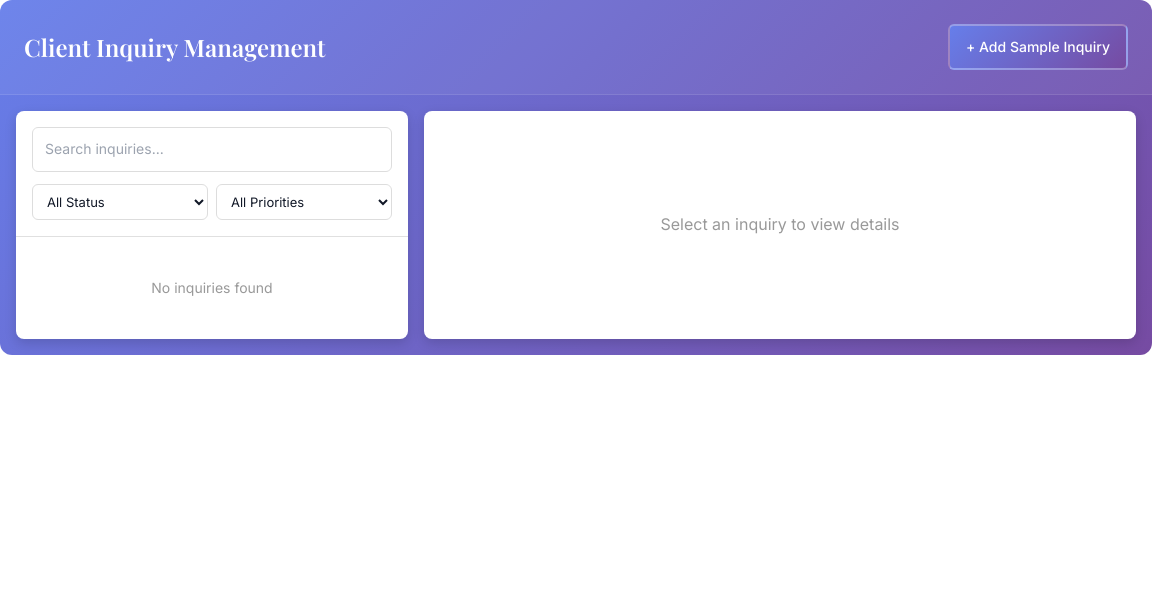
Test: InquiryManagement Component › Status Filtering › should show all when filter is reset to "all"
The image size is (1152, 605).
Click the button with test id "btn-add-inquiry" at (1038,47), box [948,24,1128,70]
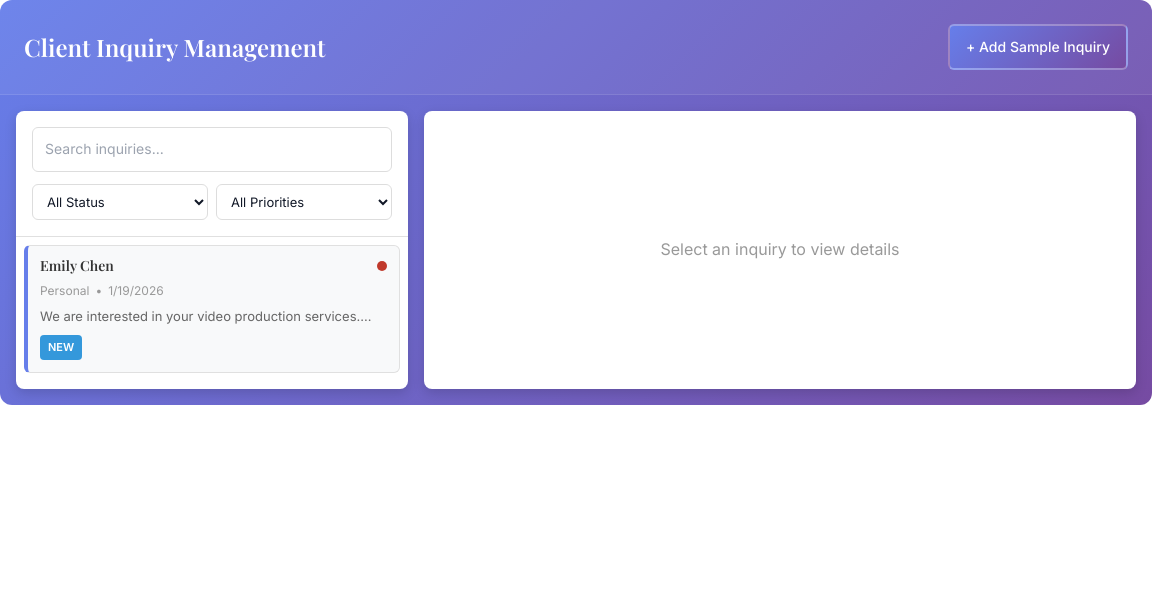
Expected: the text "No inquiries found" is gone
Click the element with test id "^inquiry-item-" at (212,309), box [24,245,400,373]
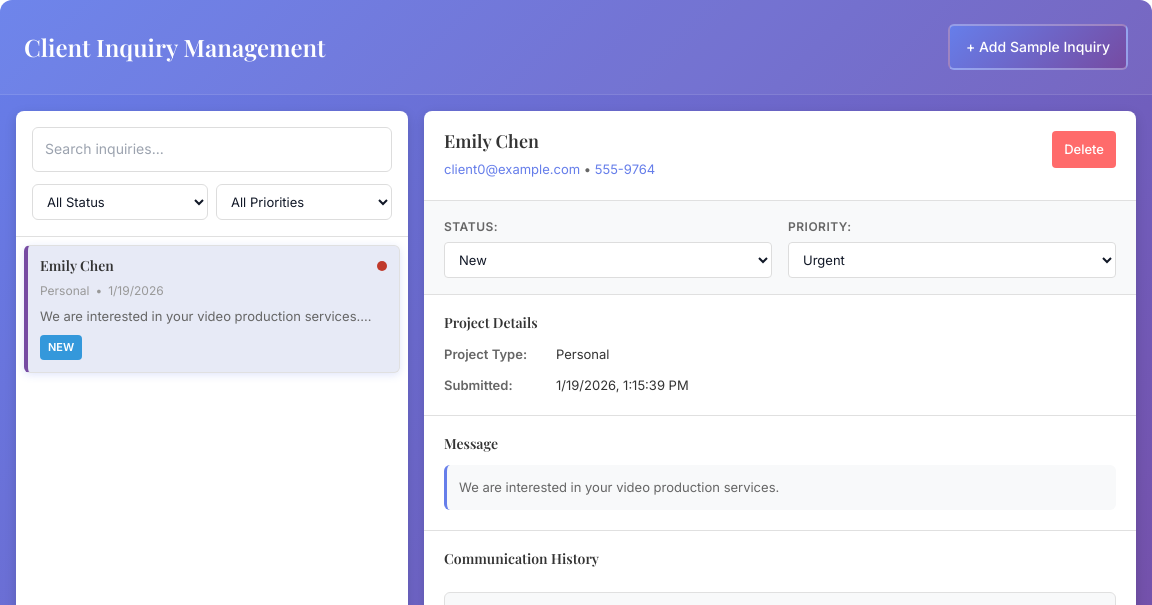
Select "Responded" in the dropdown with test id "inquiry-status-select" at (608,260), box [444,242,772,278]
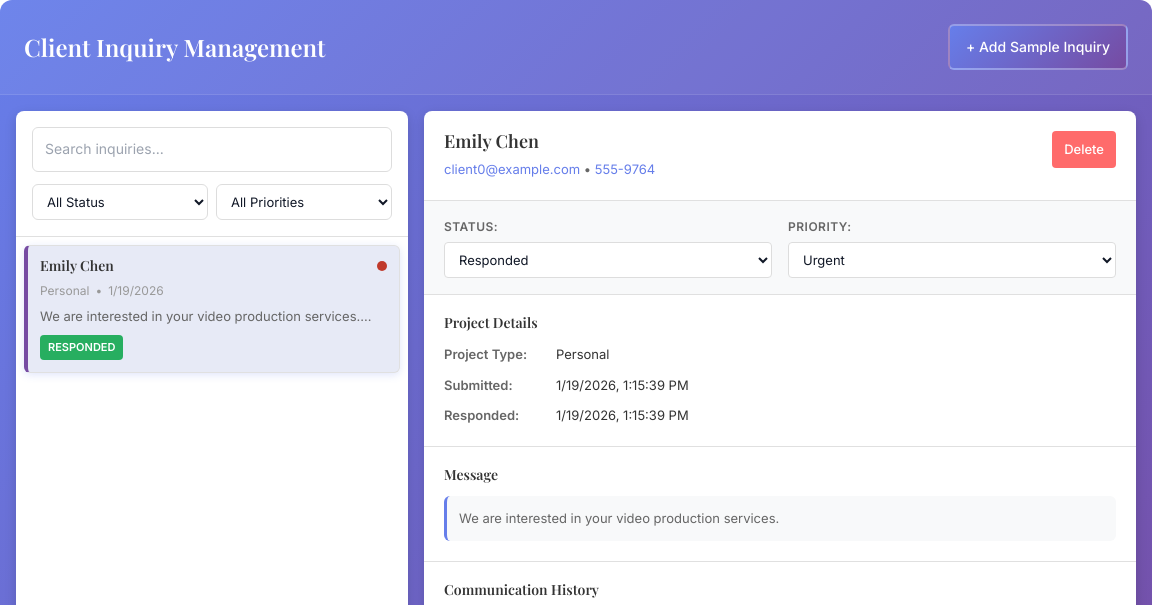
Select "New" in the dropdown with test id "filter-status" at (120,202), box [32,184,208,220]
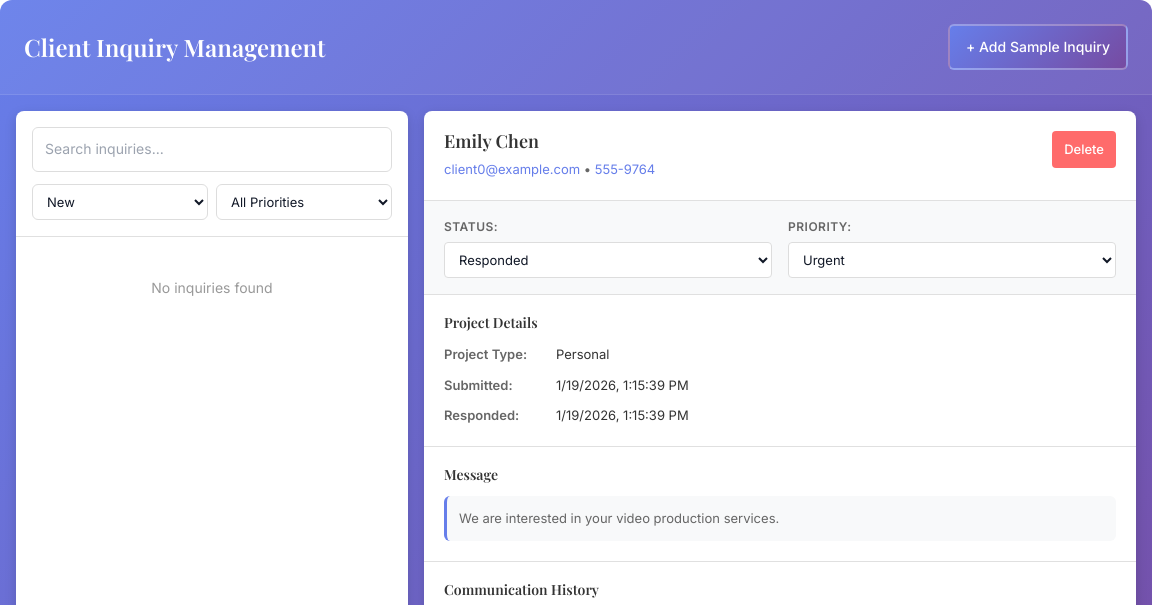
Select "All Status" in the dropdown with test id "filter-status" at (120,202), box [32,184,208,220]
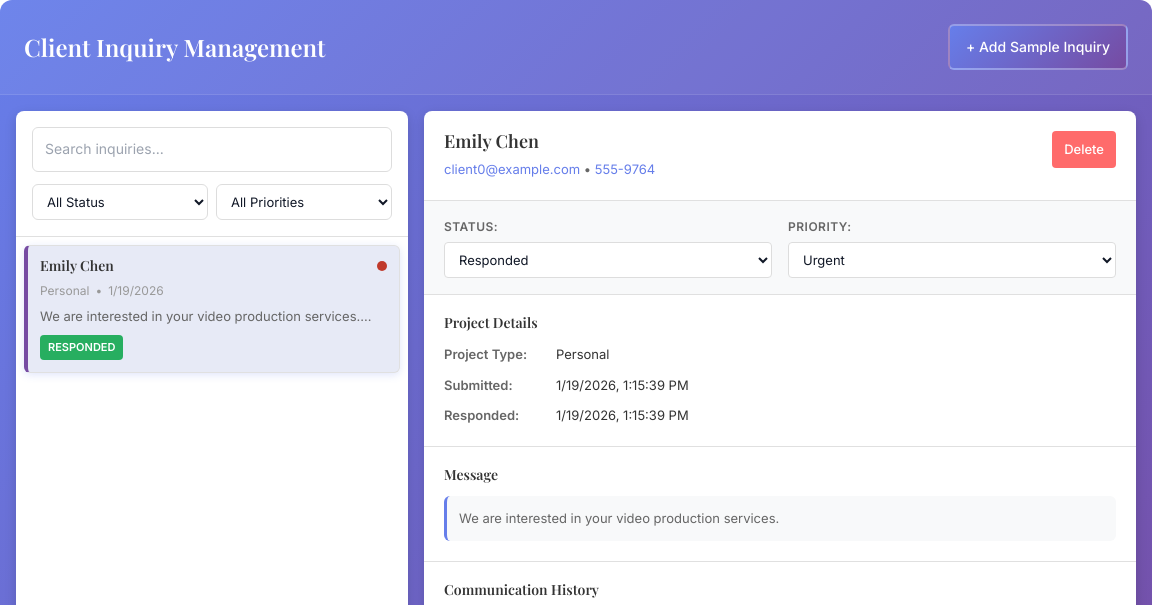
Expected: the text "No inquiries found" is gone
